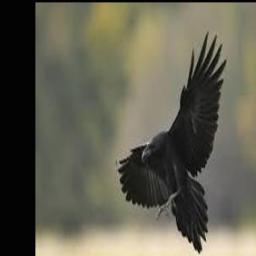Crow: (115, 31, 226, 254)
